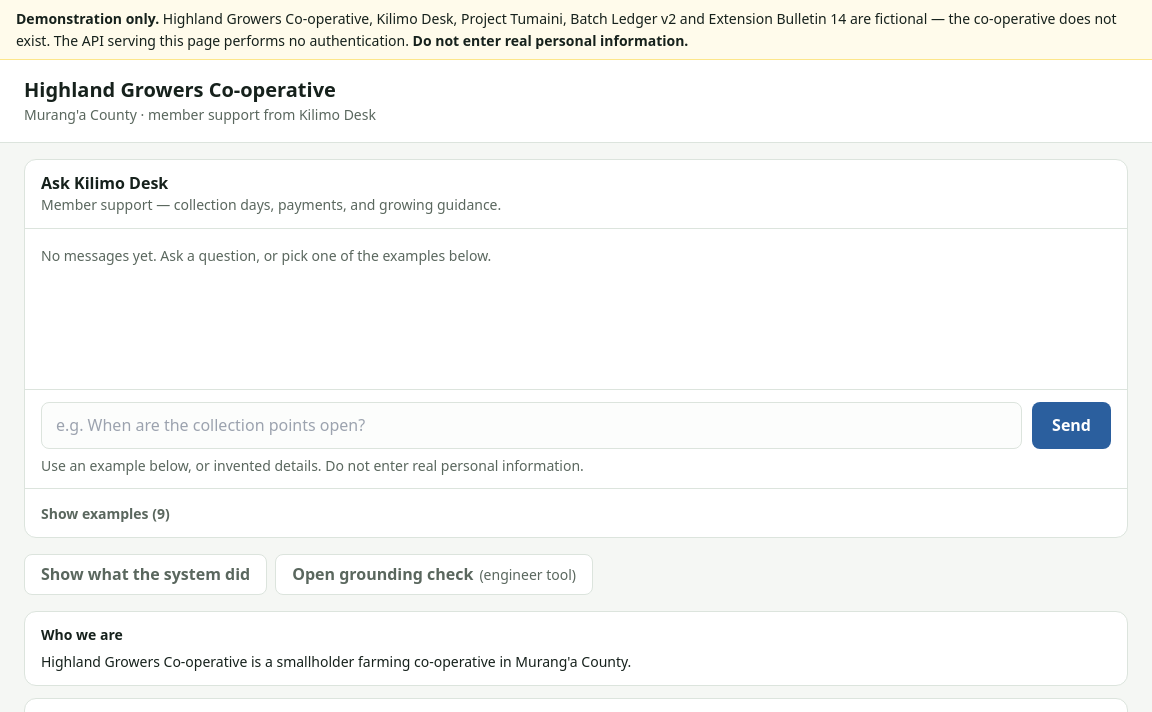
one request, two views › opens the grounding tool, labelled as an engineer's tool
Check: the heading "Ask Kilimo Desk" is shown, box [41, 172, 168, 194]
Check: the text "(engineer tool)" is shown, box [473, 565, 576, 584]
Click the button "Open grounding check(engineer tool)": (434, 574) [275, 554, 593, 595]
(page scrolled)
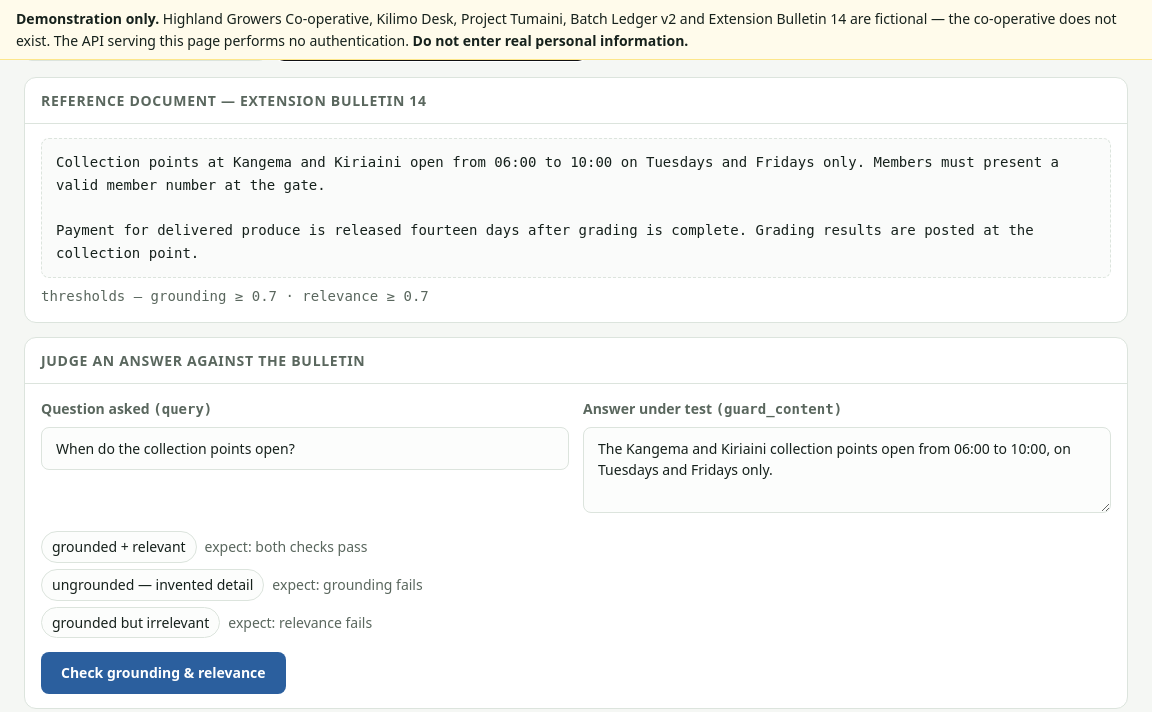
Check: the heading "Judge an answer against the bulletin" is shown, box [25, 338, 1127, 384]
